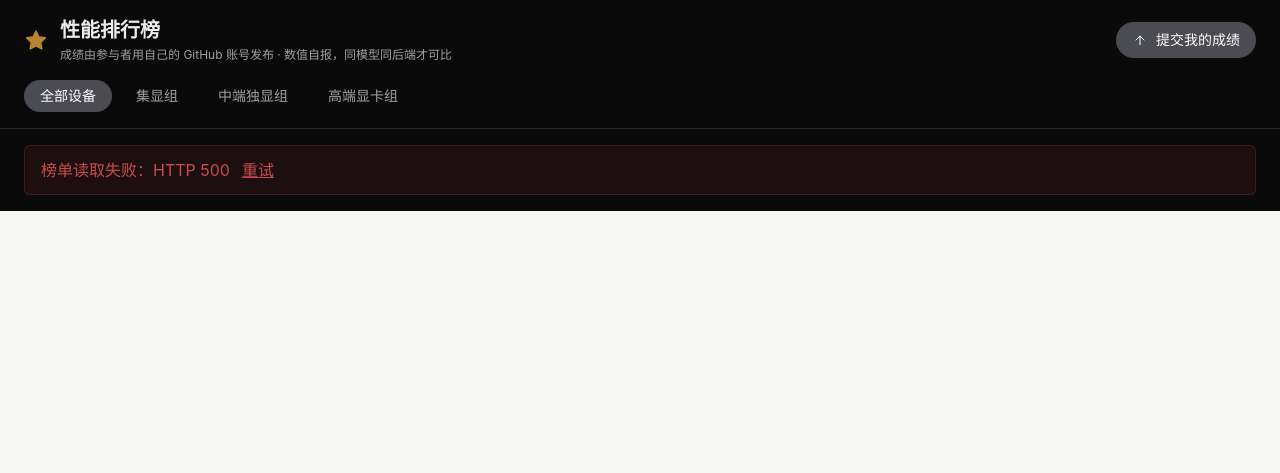
Test: LeaderboardPage › 读取失败时报错并可重试
Expected: the text "榜单读取失败：HTTP 500 重试" is shown, [24,145,1256,195]
Click the button "重试".
click(258, 170)  # box [242,158,274,182]
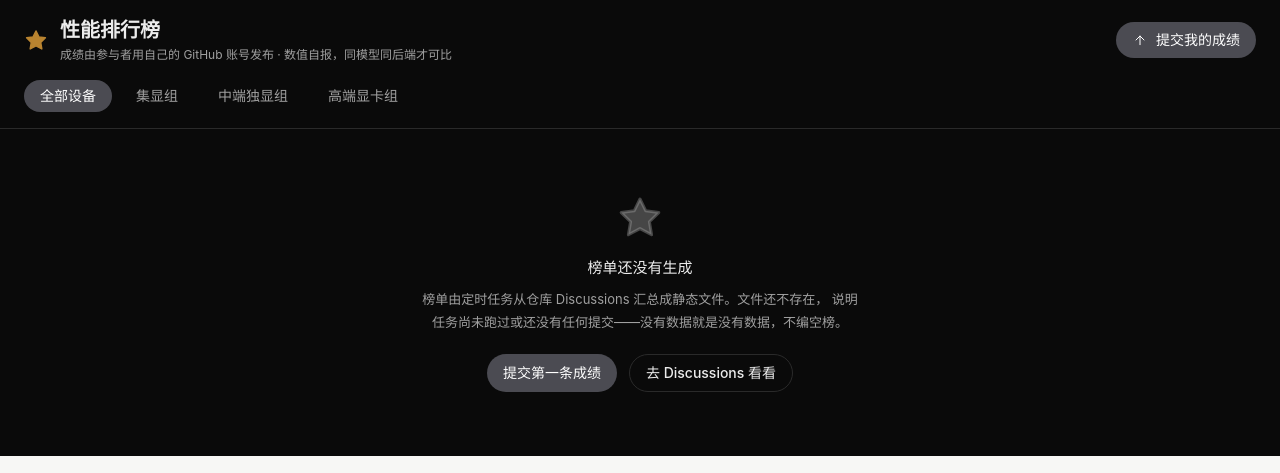
Result: the text "榜单还没有生成" is shown at [588,258,692,277]
